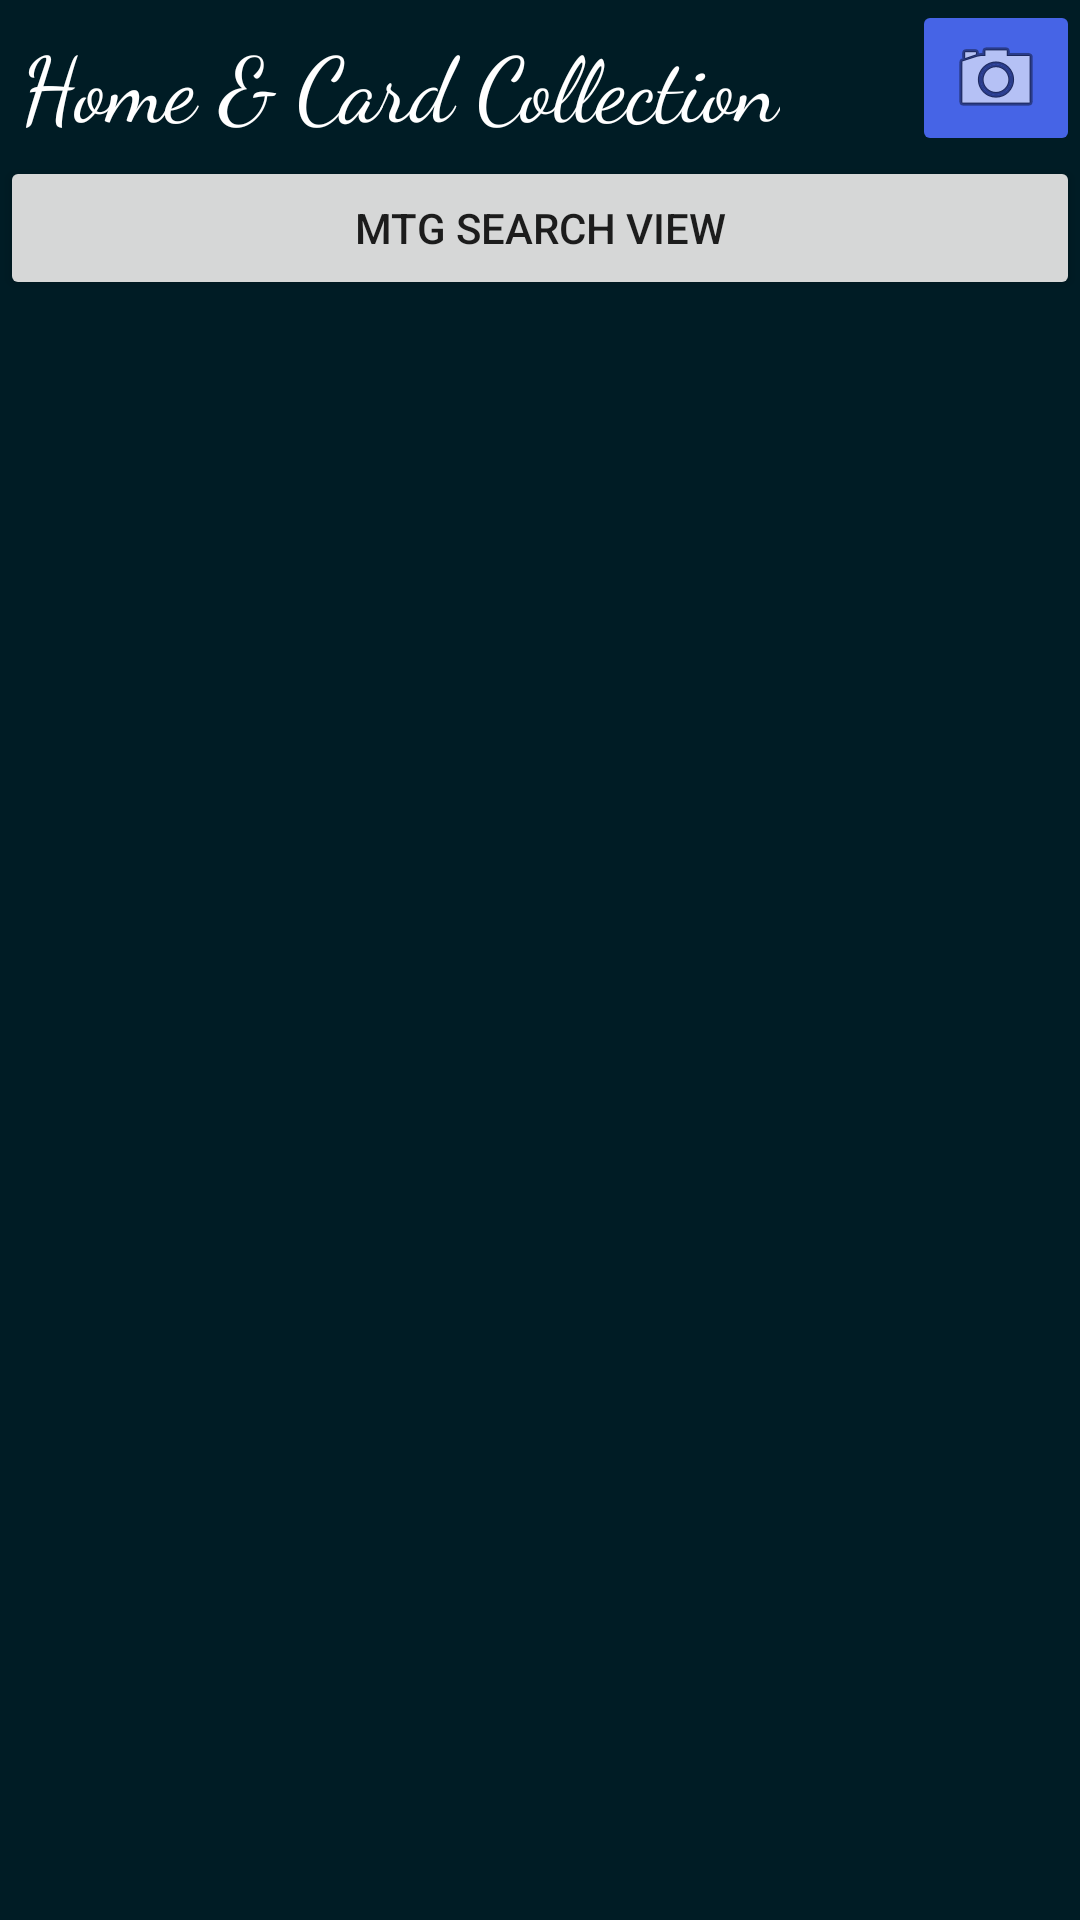

Icon click points for this 1080px×1920px phone screenshot, format [x,y]:
camera: [996,78]
